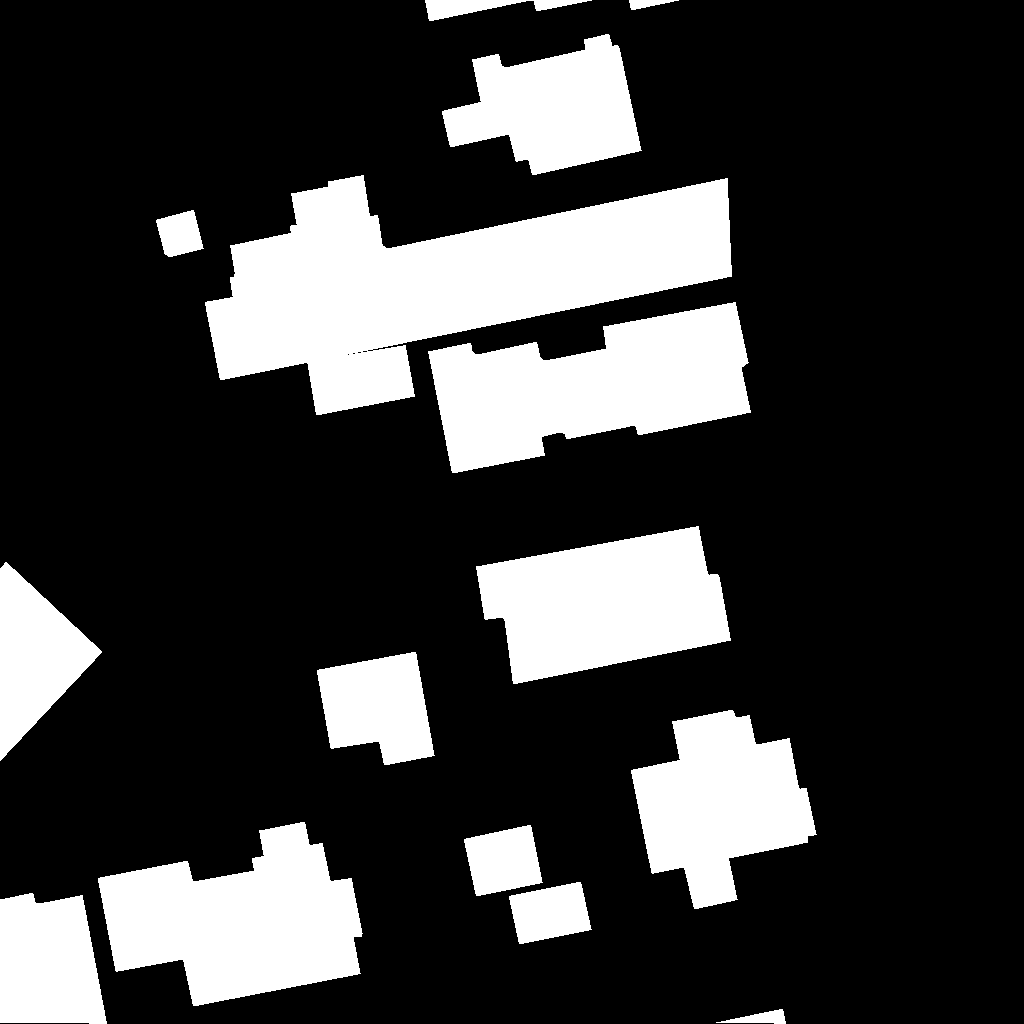building: (205, 178, 733, 381), (428, 302, 752, 474), (98, 822, 363, 1007), (476, 526, 732, 685), (631, 710, 817, 910), (442, 34, 642, 176), (0, 562, 103, 762), (0, 893, 108, 1024), (317, 652, 435, 766), (306, 345, 416, 416), (464, 825, 543, 897), (425, 0, 682, 22), (509, 882, 592, 945), (290, 175, 372, 233), (156, 210, 204, 258), (714, 1009, 787, 1024)
